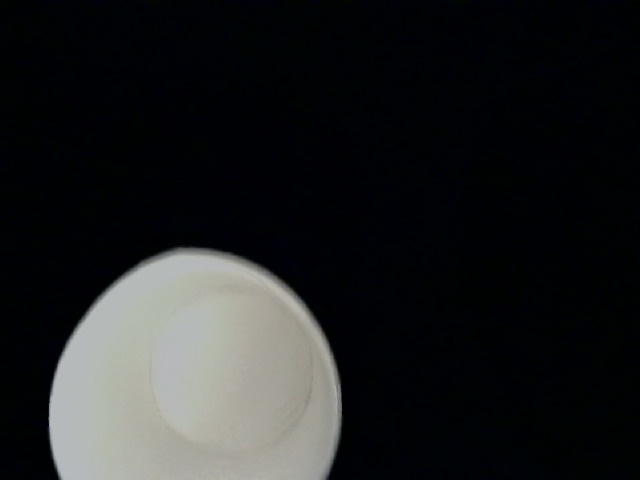KHSLJ: (39, 1, 341, 154)
